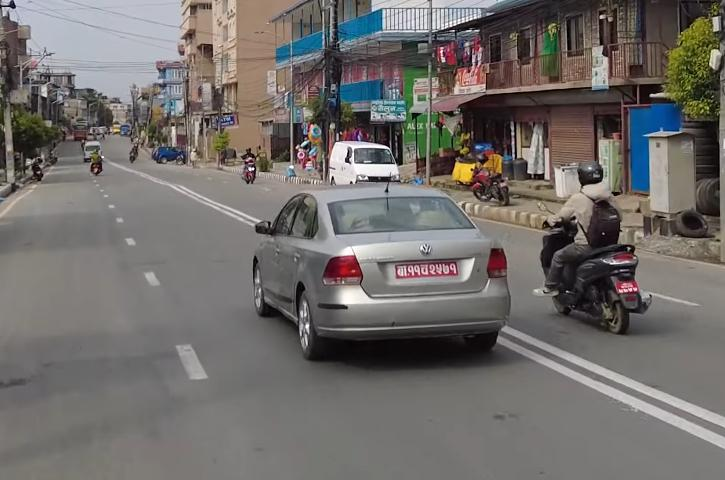bike: (469, 163, 512, 207)
car: (246, 180, 519, 374)
scooter: (529, 207, 656, 338), (241, 155, 258, 185)
van: (326, 139, 402, 190)
